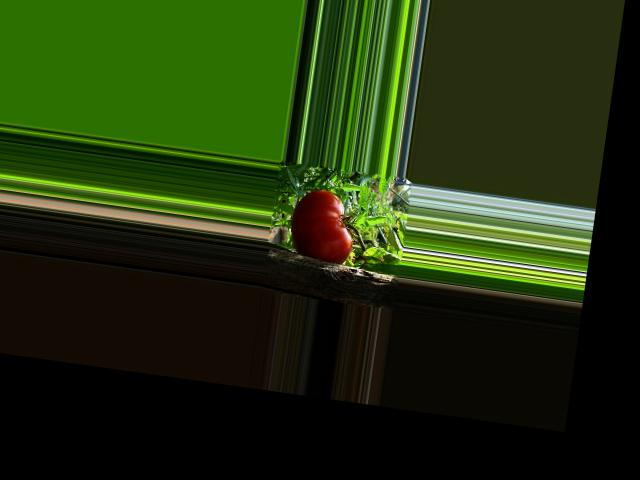tomato: (287, 186, 359, 266)
